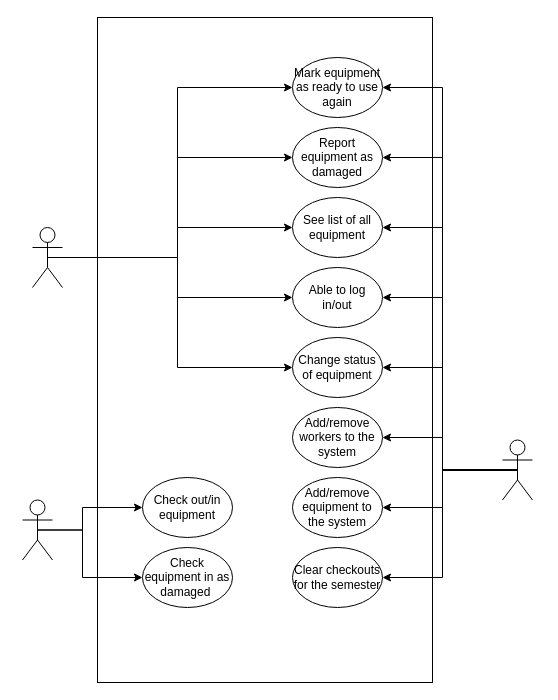
Image size: 558x700. Some labels were removed from this diagram. The shapes that lost their labels are listed below. From the top down, each one's box as (x1, y1, x2, y2) in pixels, then its label:
(32, 226, 62, 288): Worker
(502, 439, 532, 500): Manager
(22, 499, 52, 560): Student
